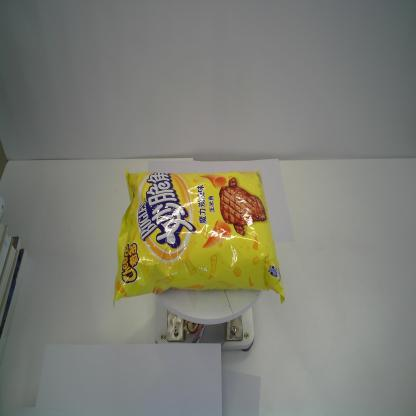Puffed Food: (111, 166, 286, 305)
